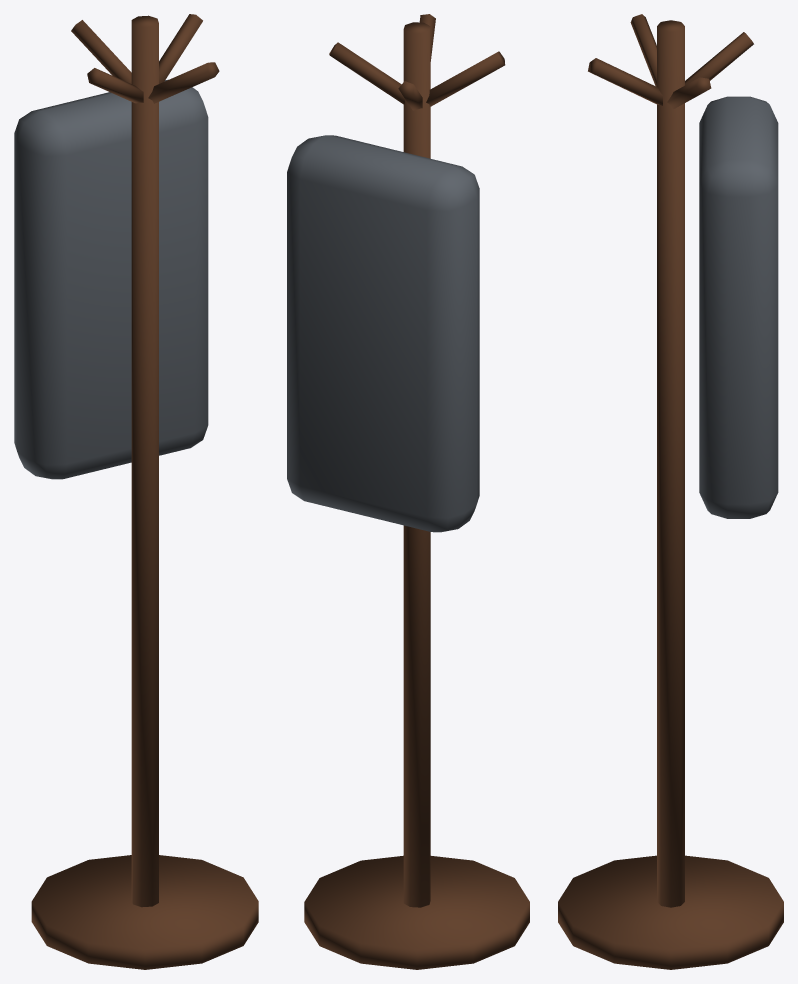
The model's file is coat_rack.gltf.
3 renders of one model, left to right at view 1: azimuth 30°, elevation 25°; view 2: azimuth 150°, elevation 25°; view 3: azimuth 270°, elevation 25°, orthographic.
Parts seen in each view (by area): view 1: coat_rack_mesh; view 2: coat_rack_mesh; view 3: coat_rack_mesh.
Part boxes in pixels (x1,y1,x2,y2): coat_rack_mesh: (14, 14, 258, 969); coat_rack_mesh: (287, 14, 529, 969); coat_rack_mesh: (558, 14, 783, 969).
Bounding box in the file's own units: 0.4 × 1.75 × 0.4.
